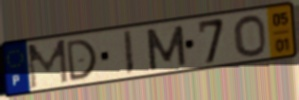7: (197, 17, 226, 66)
D: (65, 37, 99, 84)
I: (122, 28, 136, 77)
M: (26, 37, 70, 91), (144, 24, 189, 73)
O: (231, 13, 269, 58)
